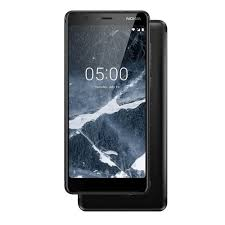nokia: (62, 7, 150, 194)
